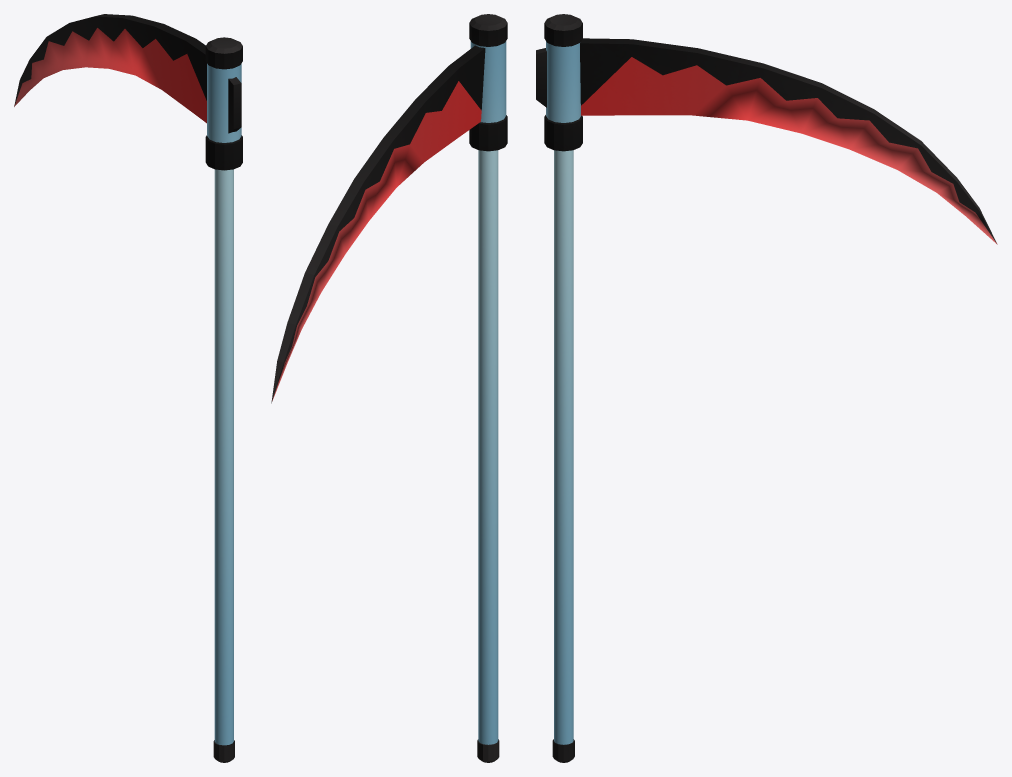
File: Death Scythe.FBX
The picture shows the model from 3 angles, left to right: view 1: azimuth 30°, elevation 25°; view 2: azimuth 150°, elevation 25°; view 3: azimuth 270°, elevation 25°; orthographic projection. The views are drawn at different scales.
Parts seen in each view (by area): view 1: Death Scythe; view 2: Death Scythe; view 3: Death Scythe.
Part boxes in pixels (x1,y1,x2,y2): Death Scythe: (14,14,242,762); Death Scythe: (271,14,507,762); Death Scythe: (536,14,997,762).
Bounding box in the file's own units: 3.24 × 68.89 × 38.96.
